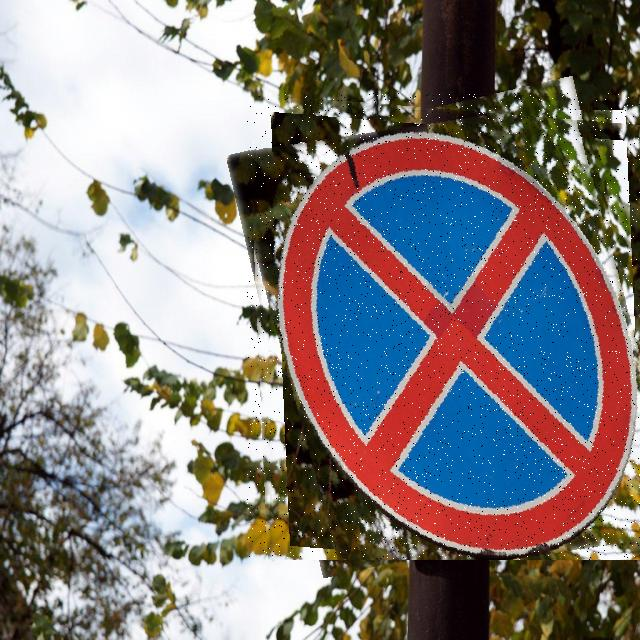no stopping: (247, 93, 640, 560)
